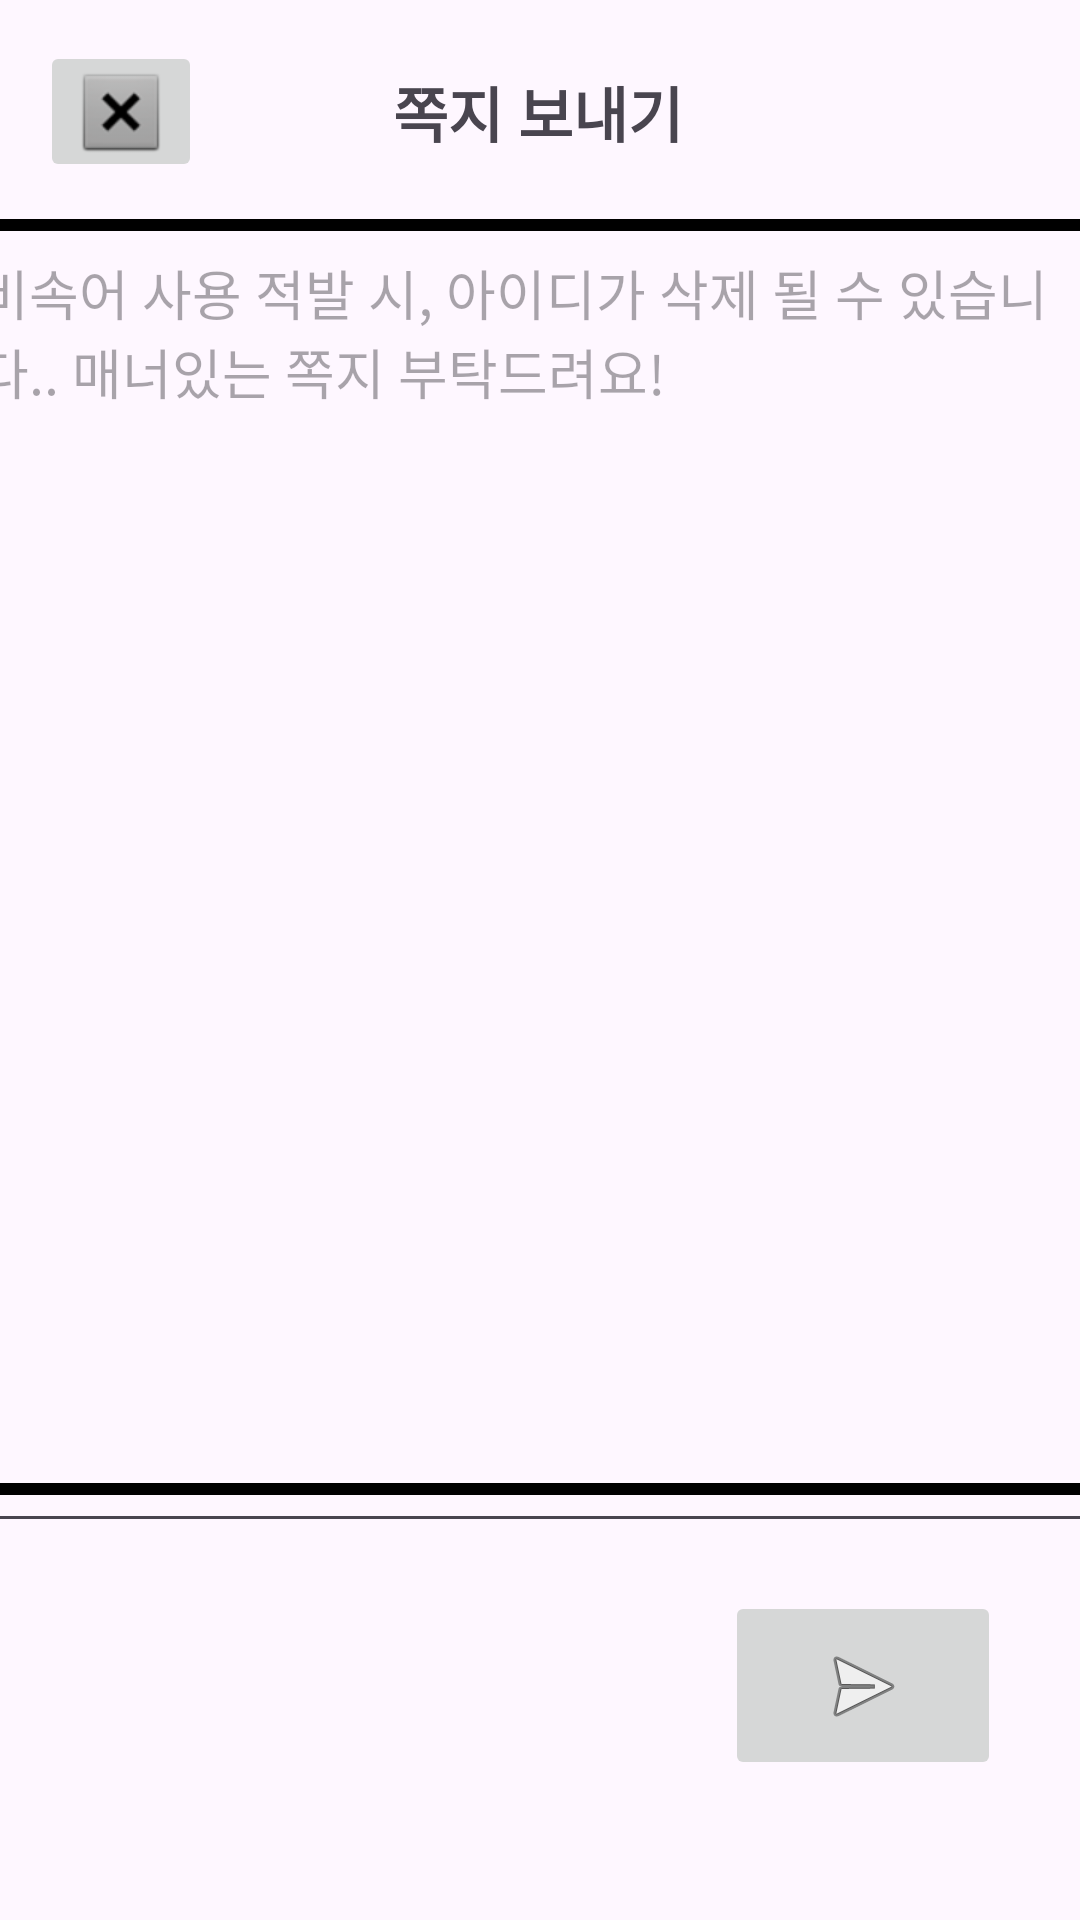

Named icons in this screenshot (1080px x 1920px) and their bounding boxes, bbox(x1, y1, x2, y2):
send: bbox(737, 1609, 989, 1762)
